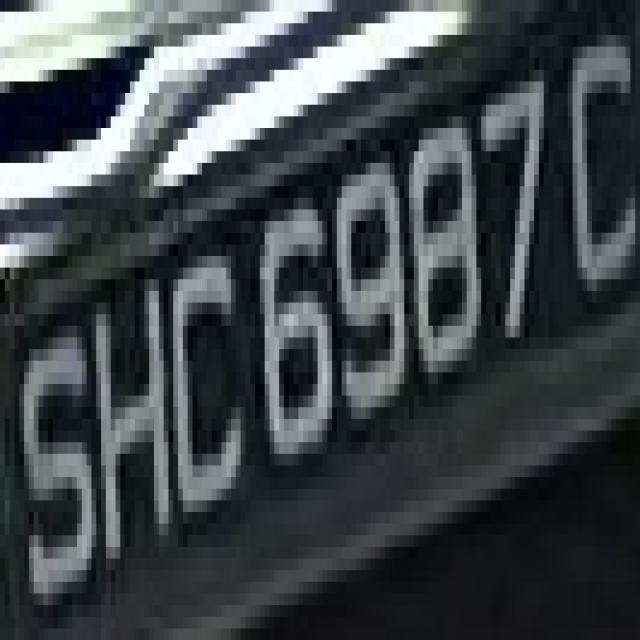6: (255, 151, 342, 489)
7: (462, 35, 549, 384)
8: (399, 70, 476, 396)
9: (322, 128, 414, 465)
C: (149, 221, 250, 524), (563, 11, 640, 338)
H: (91, 233, 178, 570)
S: (0, 5, 1, 12)
